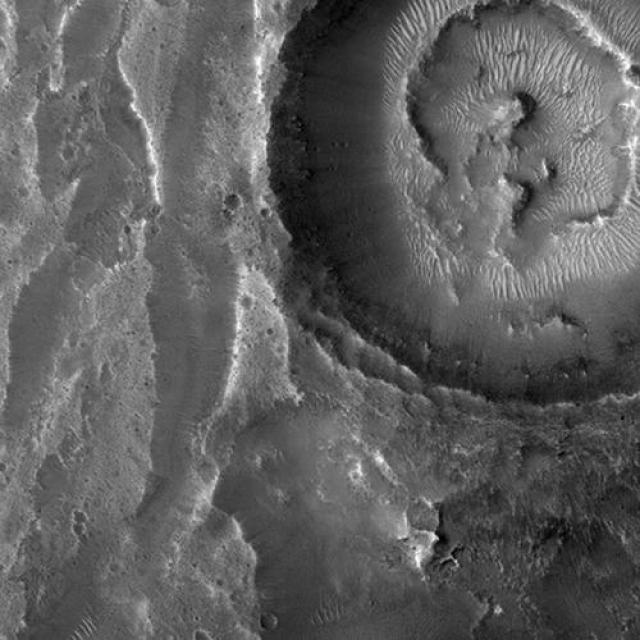crater: (263, 0, 640, 411), (0, 569, 33, 640), (0, 37, 35, 96), (0, 517, 23, 563), (0, 0, 36, 24), (149, 0, 183, 18), (0, 213, 17, 243), (0, 242, 12, 270)
